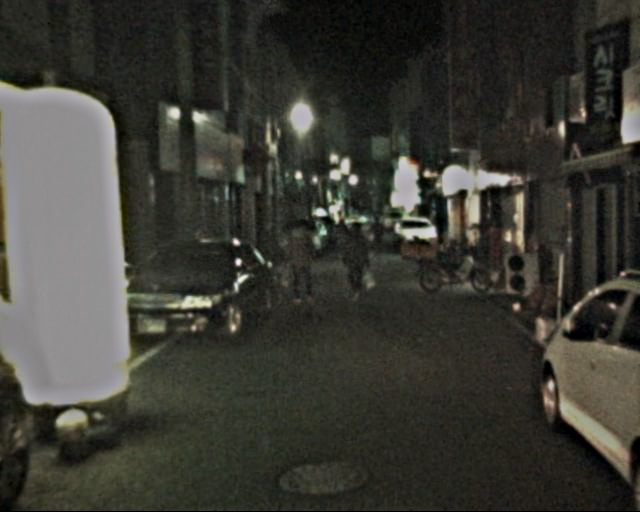person: (282, 215, 322, 311), (337, 221, 373, 308), (370, 216, 386, 255)
